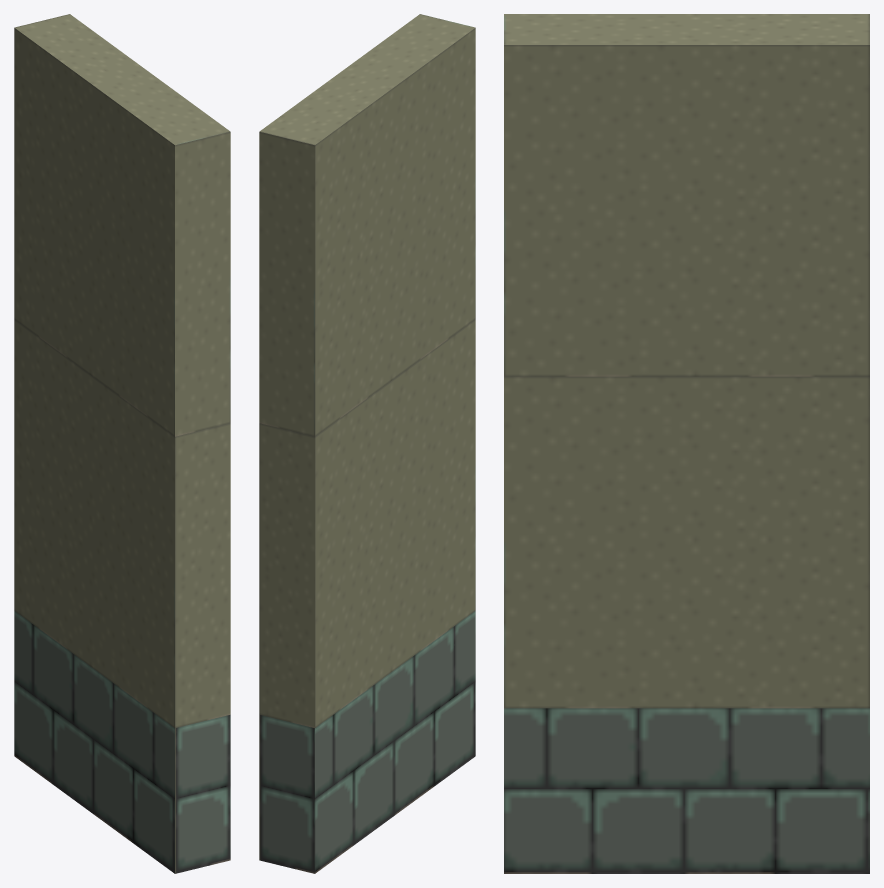
The model's file is obj_wall_1x2m_v4.fbx.
3 views of the same model, side by side, from view 1: azimuth 30°, elevation 25°; view 2: azimuth 150°, elevation 25°; view 3: azimuth 270°, elevation 25° (orthographic). The views are drawn at different scales.
Visible parts, largest first — view 1: obj_wall_1x2m_v4; view 2: obj_wall_1x2m_v4; view 3: obj_wall_1x2m_v4.
Part boxes in pixels (<box>): obj_wall_1x2m_v4: <box>14,14,230,873</box>; obj_wall_1x2m_v4: <box>259,14,475,873</box>; obj_wall_1x2m_v4: <box>504,14,869,873</box>.
Size of the model in its own units: 20 by 250 by 100.
